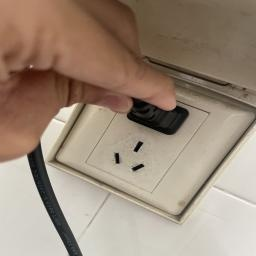outlet: (52, 55, 247, 224)
